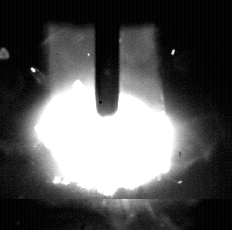arame: (96, 0, 121, 117)
poca: (37, 0, 175, 230)
